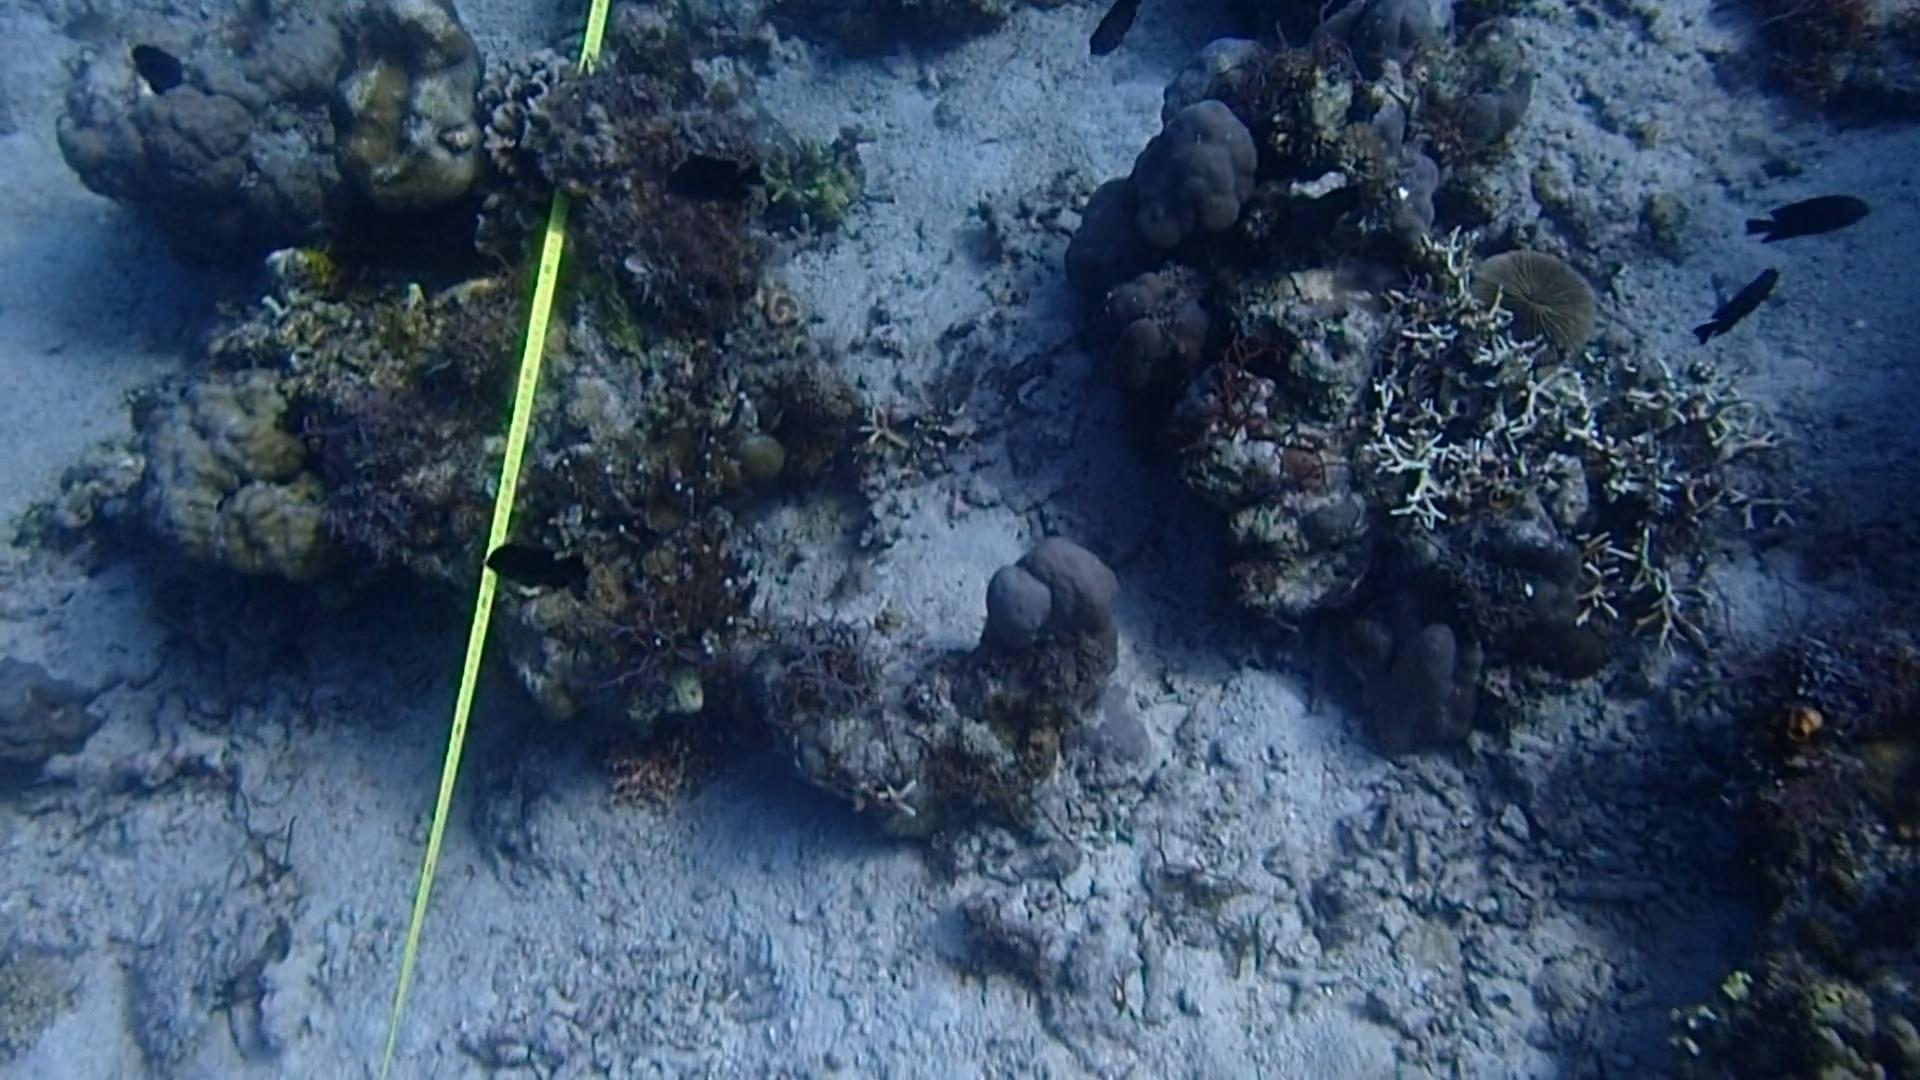Dark Fish: (1250, 167, 1367, 285), (1681, 261, 1803, 359), (1737, 183, 1887, 261), (472, 530, 615, 596), (665, 145, 777, 224), (1071, 3, 1162, 58), (119, 47, 199, 95)
